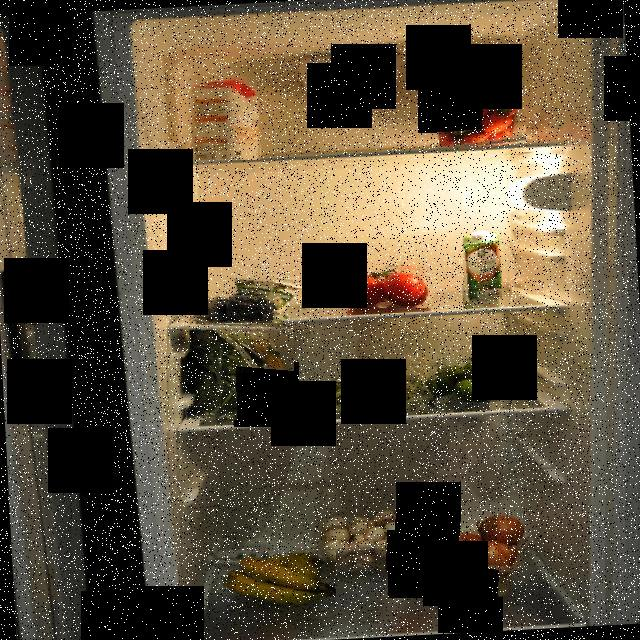banana: (222, 544, 336, 606)
blueberries: (186, 284, 286, 323)
goat_cheese: (229, 270, 306, 310)
green_beans: (304, 354, 438, 414)
heavy_cream: (458, 230, 502, 302)
lime: (415, 354, 499, 402)
mushrooms: (318, 505, 442, 575)
onion: (432, 512, 530, 597)
spinach: (182, 320, 294, 420)
strawberries: (431, 102, 527, 150)
sugar: (190, 76, 263, 160)
tomato: (342, 260, 436, 308)
